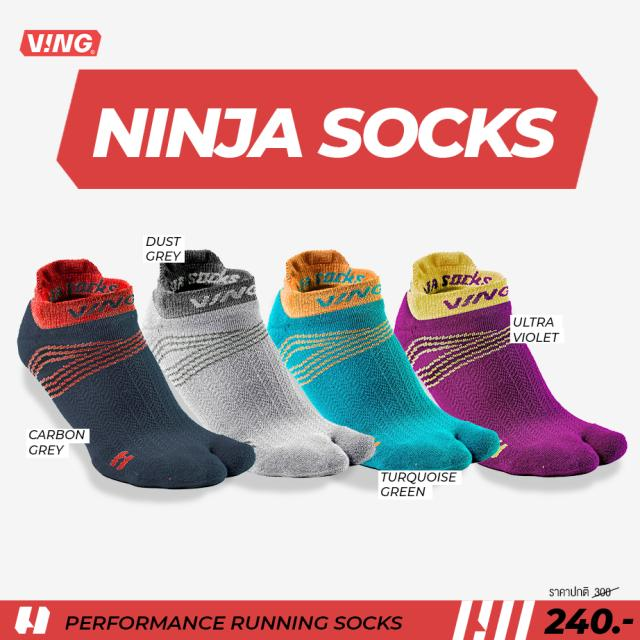sock: (16, 257, 255, 489), (140, 248, 377, 477), (393, 250, 627, 477), (266, 248, 502, 471)
